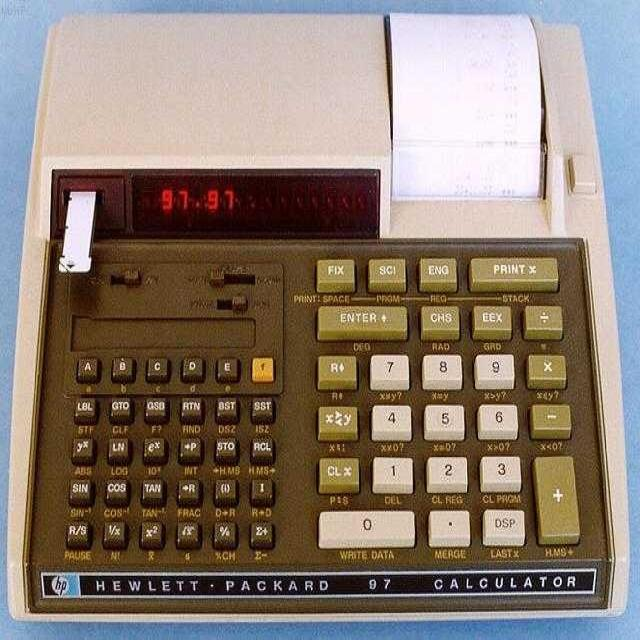Calculator: (6, 10, 630, 625)
